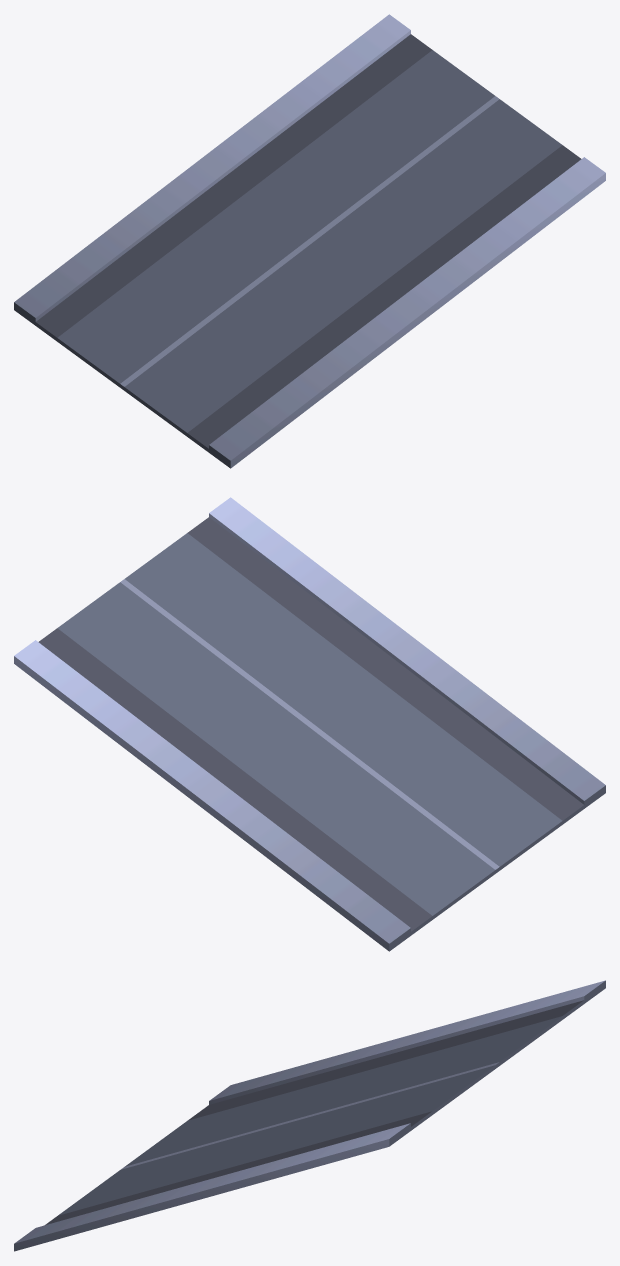
File: road-slant-flat-high.glb
The picture shows the model from 3 angles, top to bottom: view 1: azimuth 30°, elevation 25°; view 2: azimuth 150°, elevation 25°; view 3: azimuth 330°, elevation 25°; orthographic projection.
Visible parts, largest first — view 1: road-slant-flat-high; view 2: road-slant-flat-high; view 3: road-slant-flat-high.
Part boxes in pixels (x1,y1,x2,y2): road-slant-flat-high: [14, 14, 605, 468]; road-slant-flat-high: [14, 497, 605, 951]; road-slant-flat-high: [14, 980, 605, 1251].
Size of the model in its own units: 1 by 0.52 by 1.
1 material, 1 textured.
